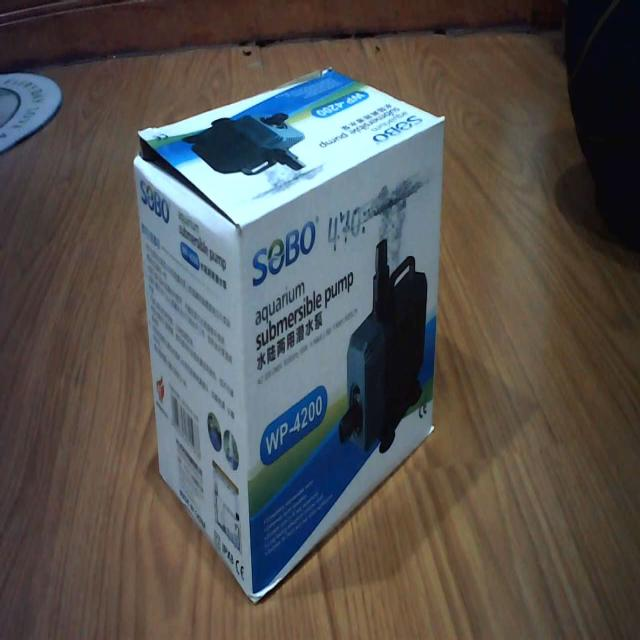SOBO_WP_4200: (126, 57, 452, 618)
